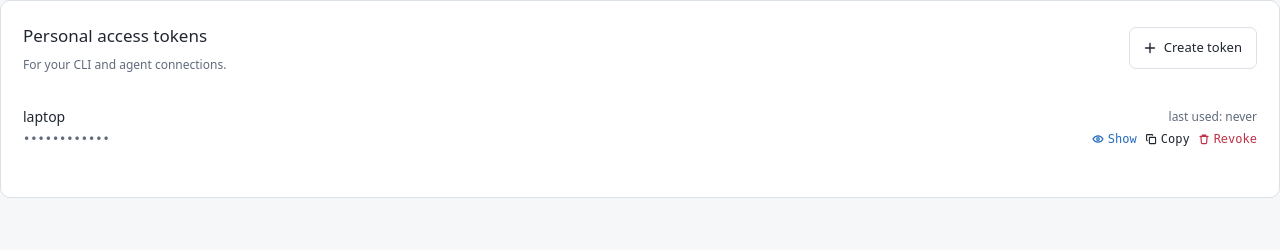
PersonalTokensCard › surfaces a visible error when the clipboard write fails
Check: the text "laptop" is shown, box [23, 106, 65, 126]
Click the button "Copy" at (1167, 138), box [1145, 130, 1190, 146]
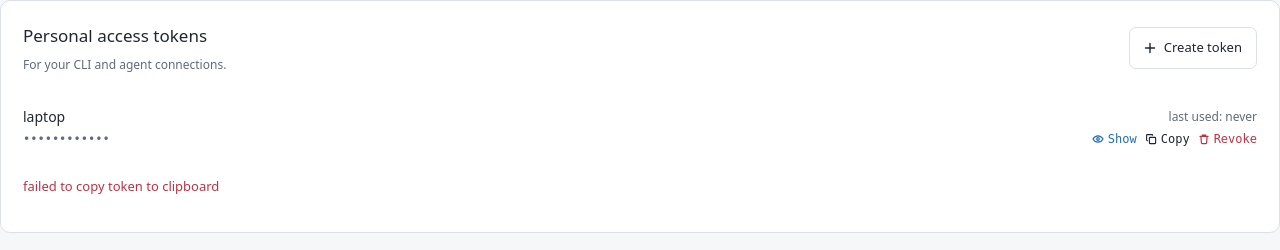
Check: the text "failed to copy token to clipboard" is shown, box [23, 176, 219, 194]
